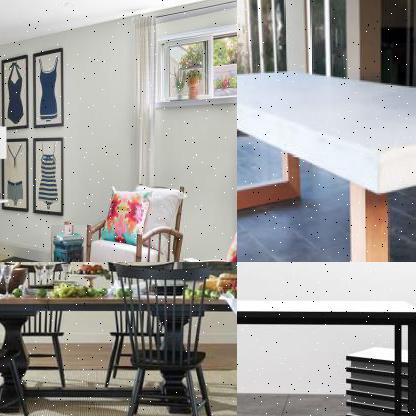table: (237, 56, 415, 261), (0, 276, 236, 415), (237, 288, 415, 415), (51, 225, 88, 261)
